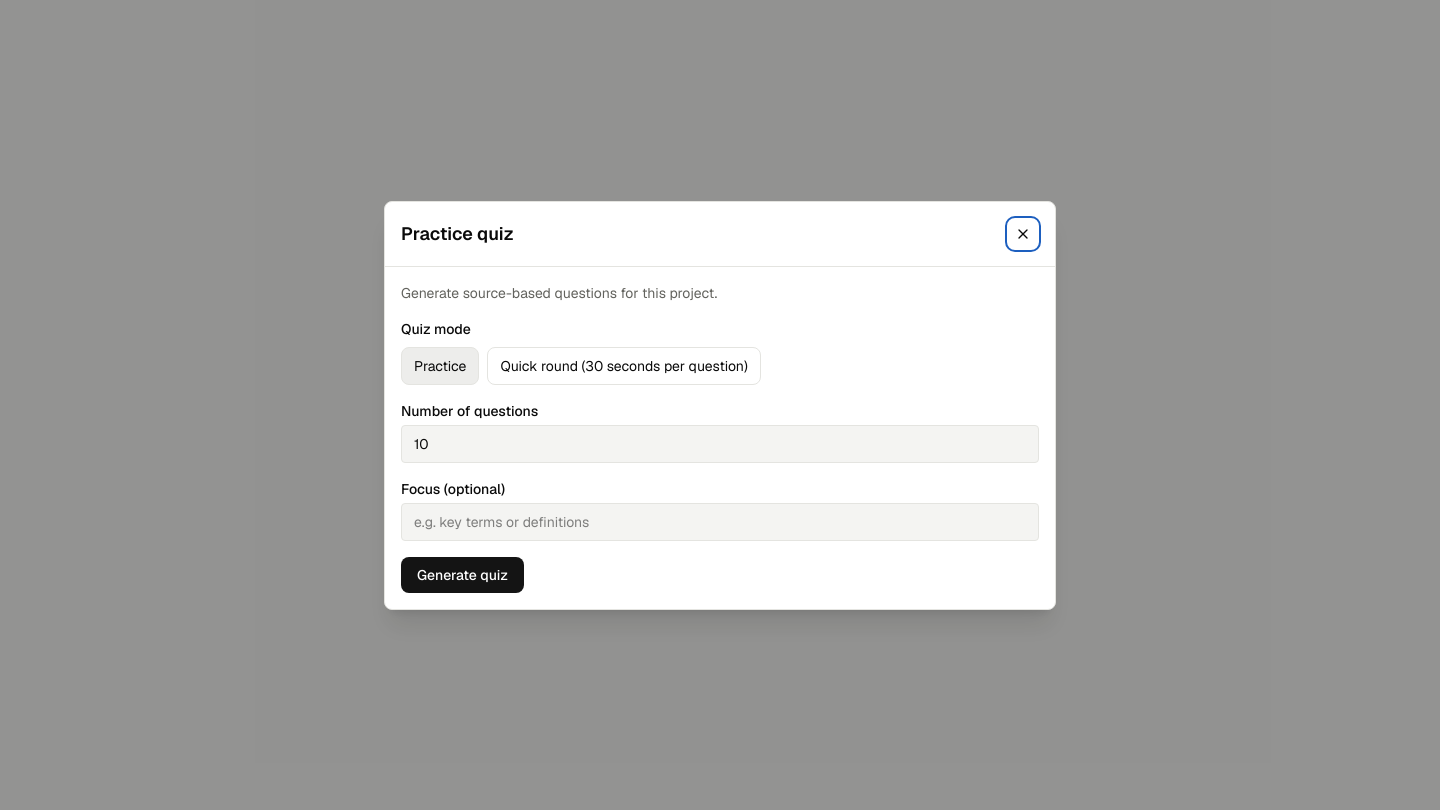
Scenario: StudyToolsDialog › reveals the quiz answer and scores completed quiz
Click the button "Generate quiz". click: (462, 574)
box: [401,556,524,592]
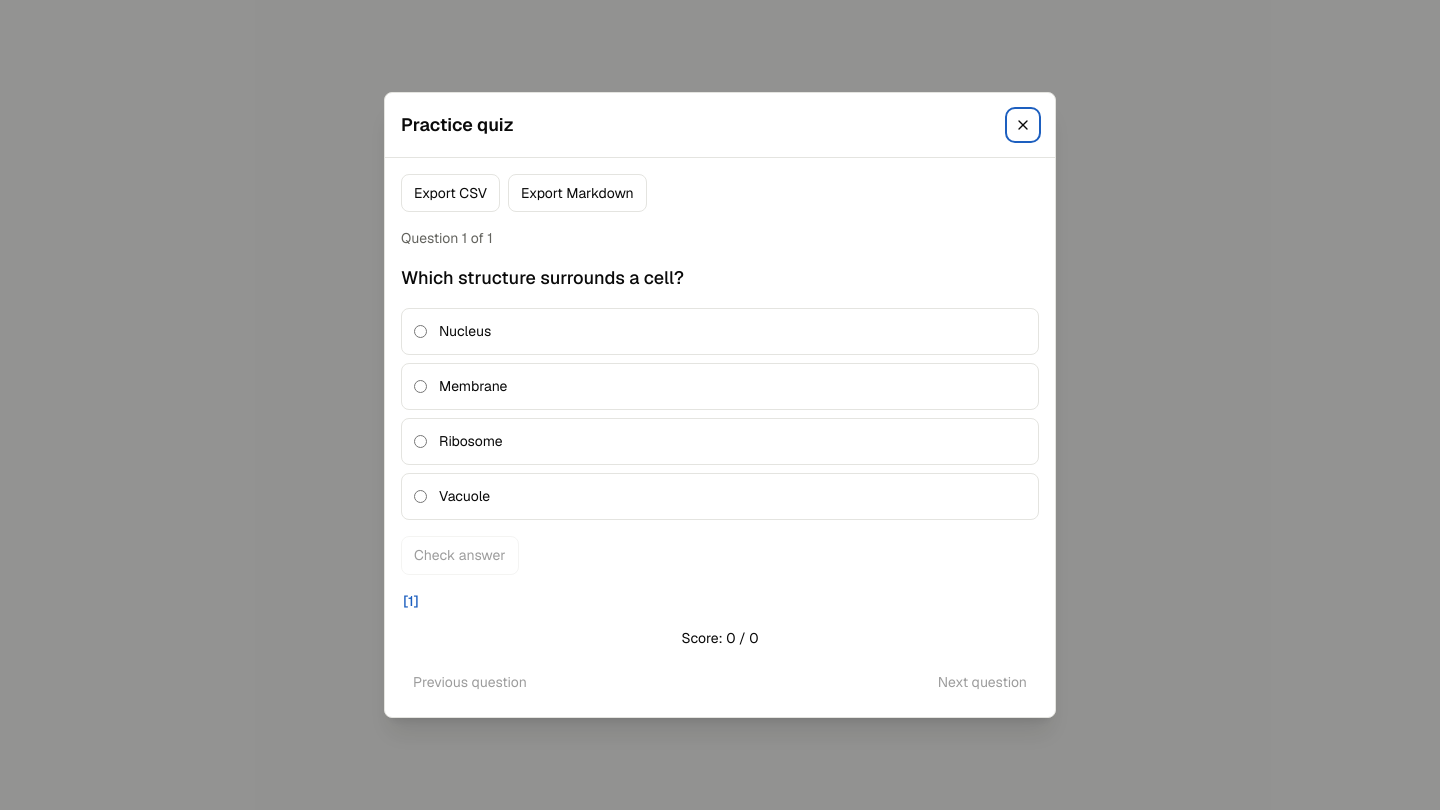
Now the heading "Which structure surrounds a cell?" is shown, box [401,266,684,289]
Click the radio button labelled "Membrane". click: (420, 386)
box: [414,380,427,393]
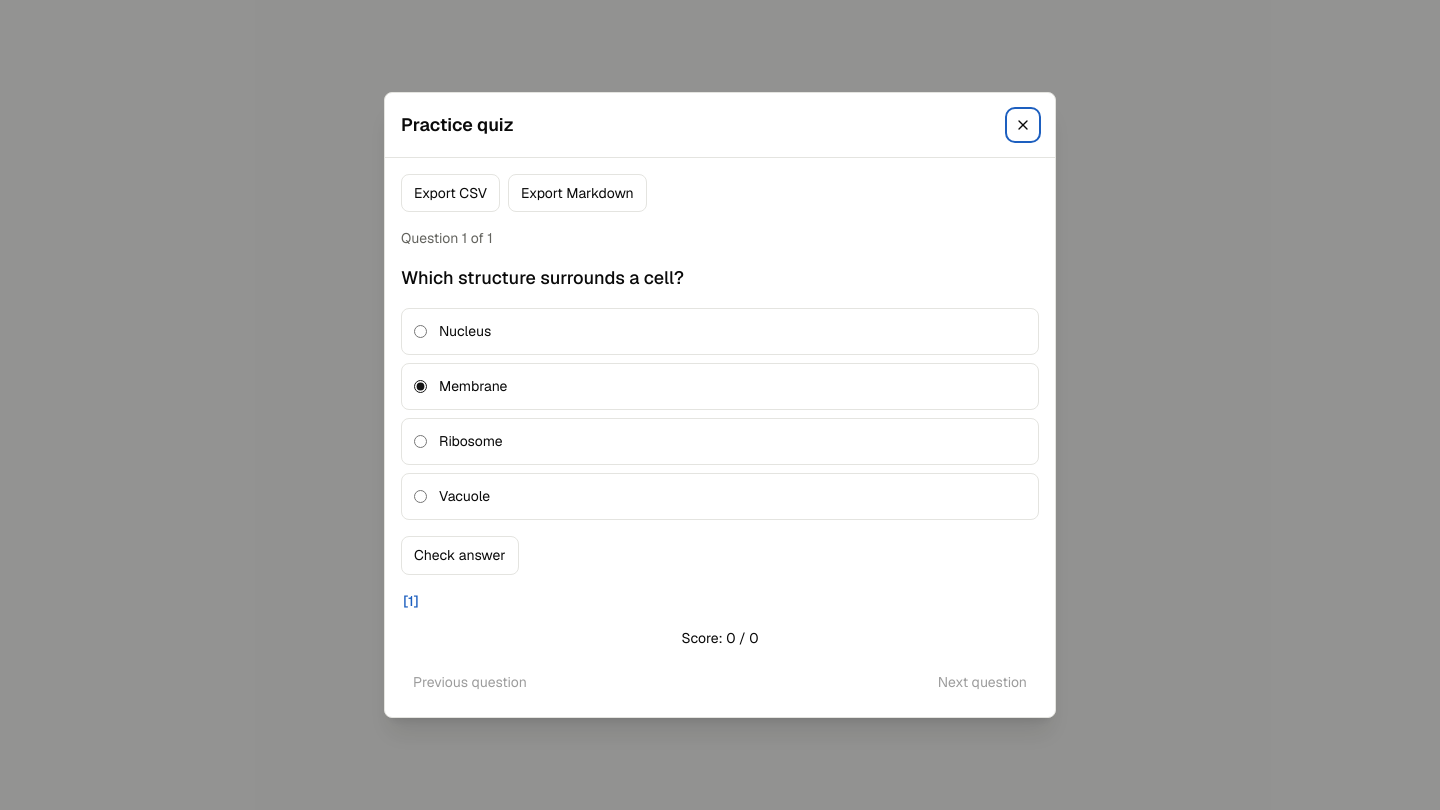
Click the button "Check answer". click: (460, 556)
box: [401,536,518,575]
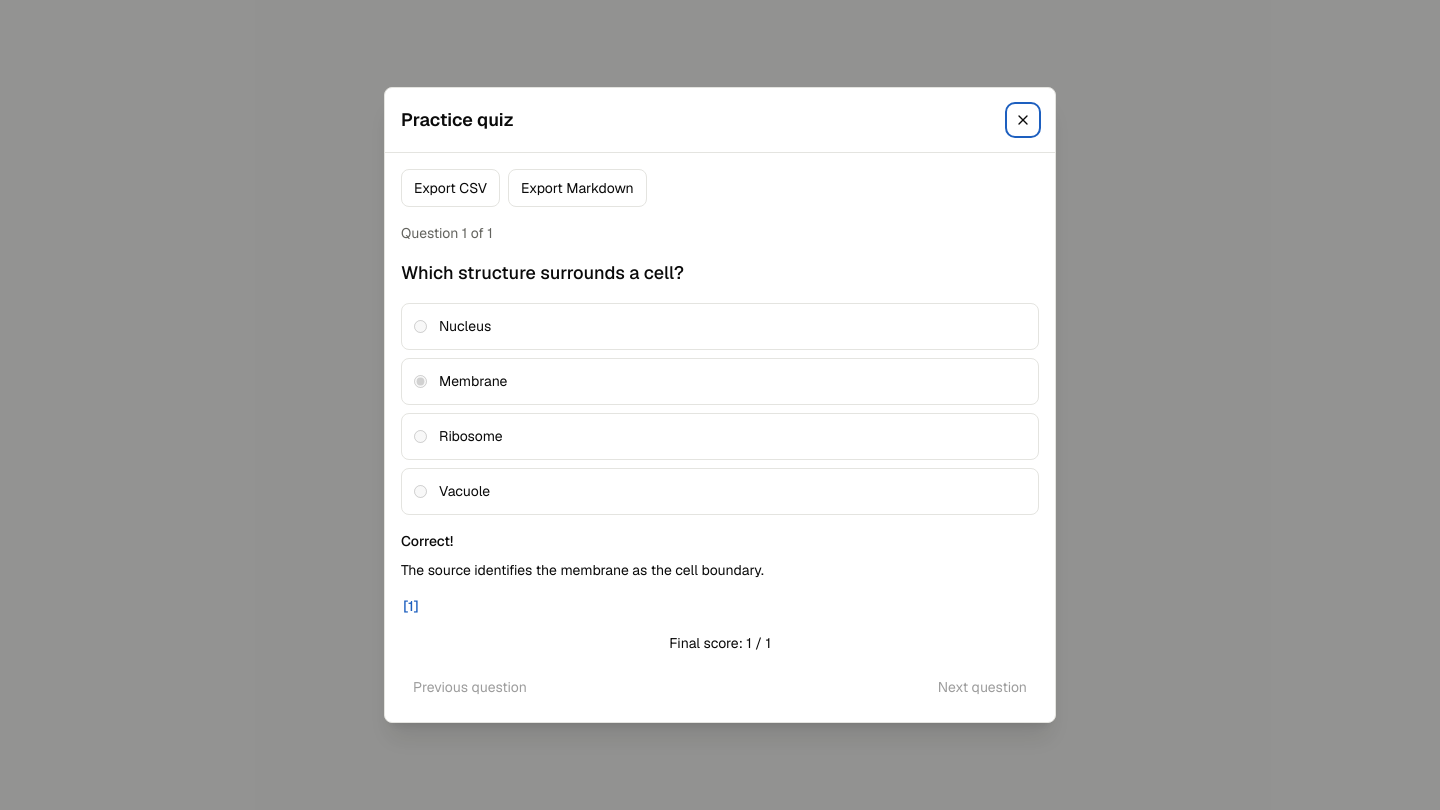
Now the text "The source identifies the membrane as the cell boundary." is shown, box [401,561,764,579]
Now the text "Final score: 1 / 1" is shown, box [669,634,771,652]
